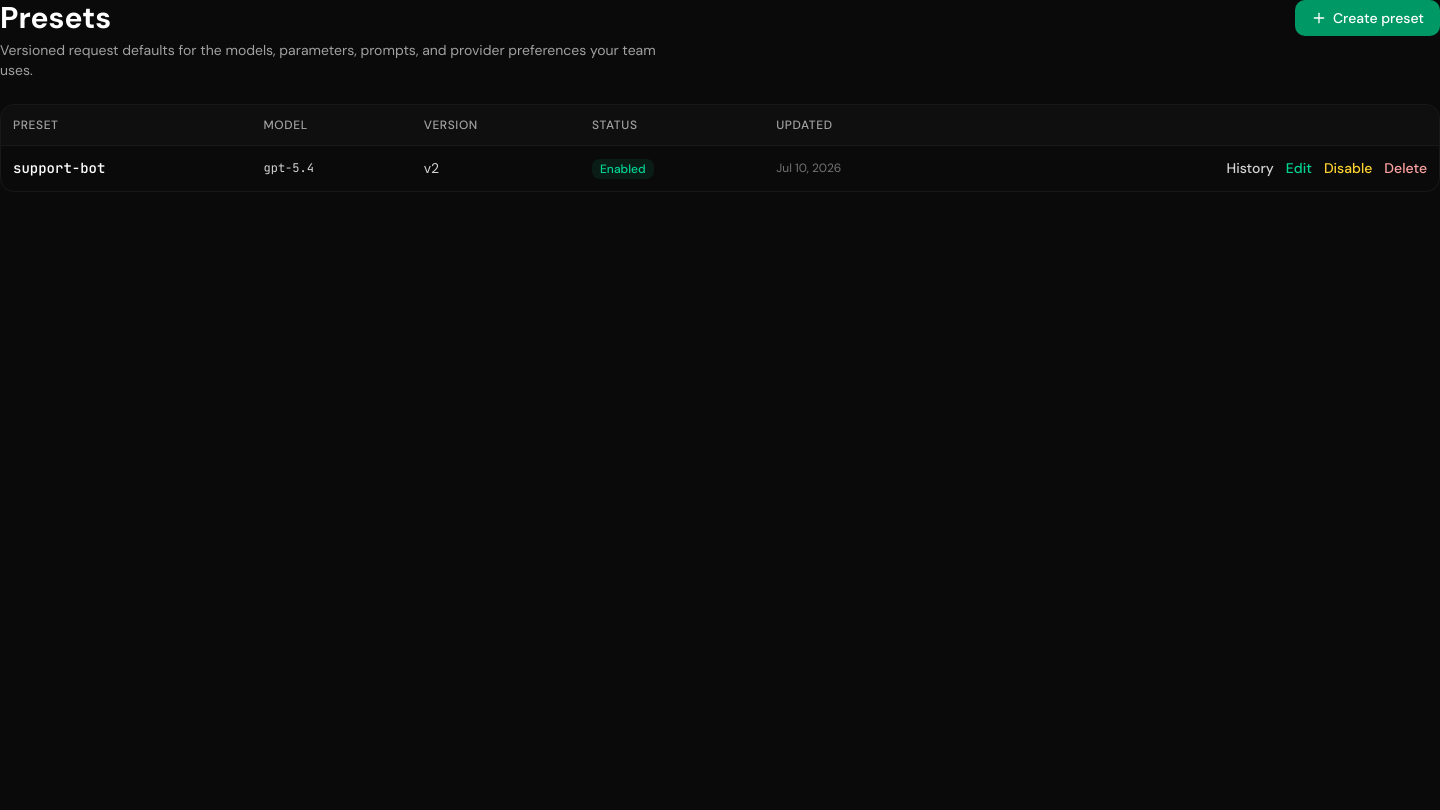
Test: PresetsManager › disables a preset through the explicit disable endpoint
The image size is (1440, 810).
Check: the text "support-bot" is shown, box [1, 145, 252, 190]
Click the button with aria-label "Disable support-bot" at point(1348, 168), box [1324, 158, 1372, 178]
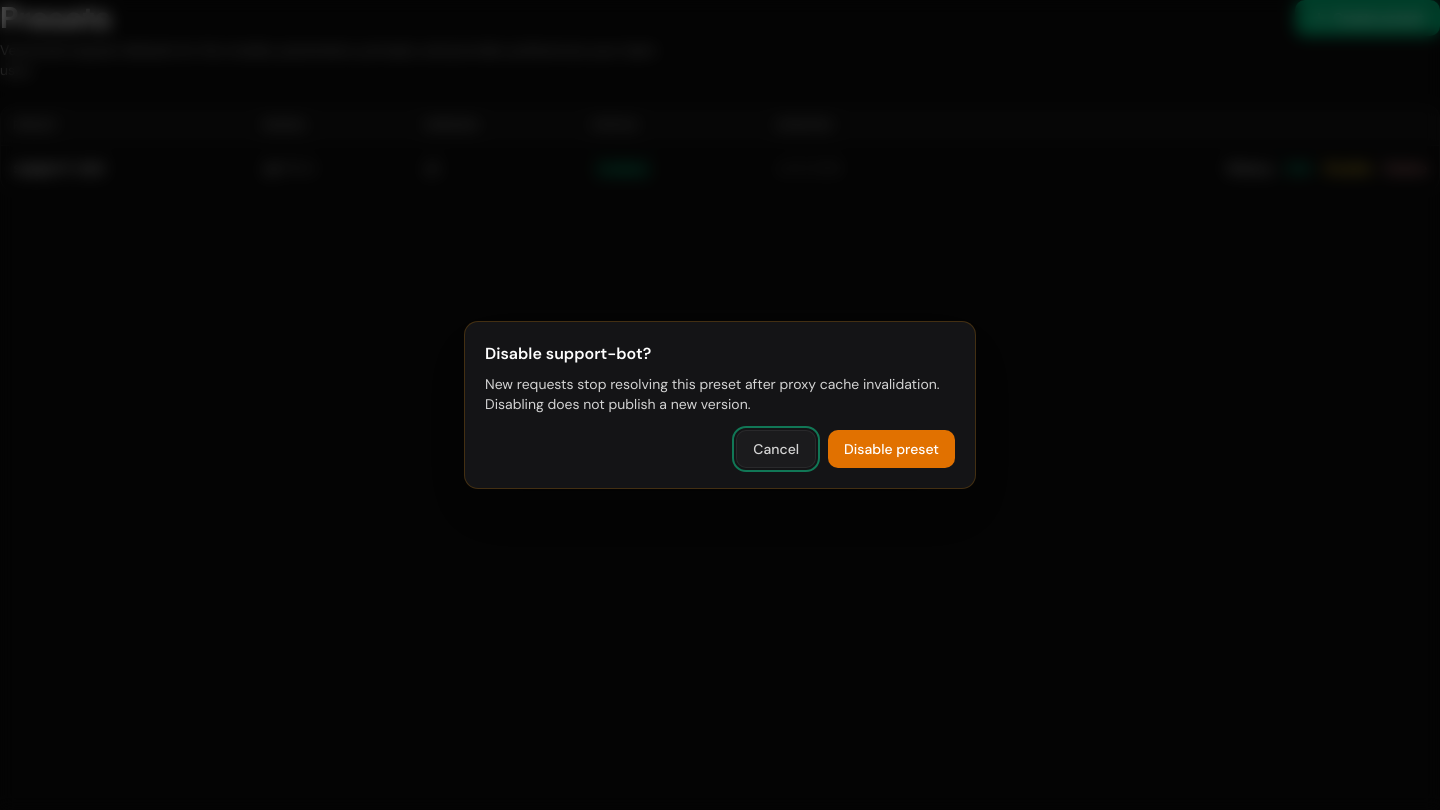
Click the button with aria-label "Confirm disable support-bot" at point(892, 449), box [828, 430, 955, 468]
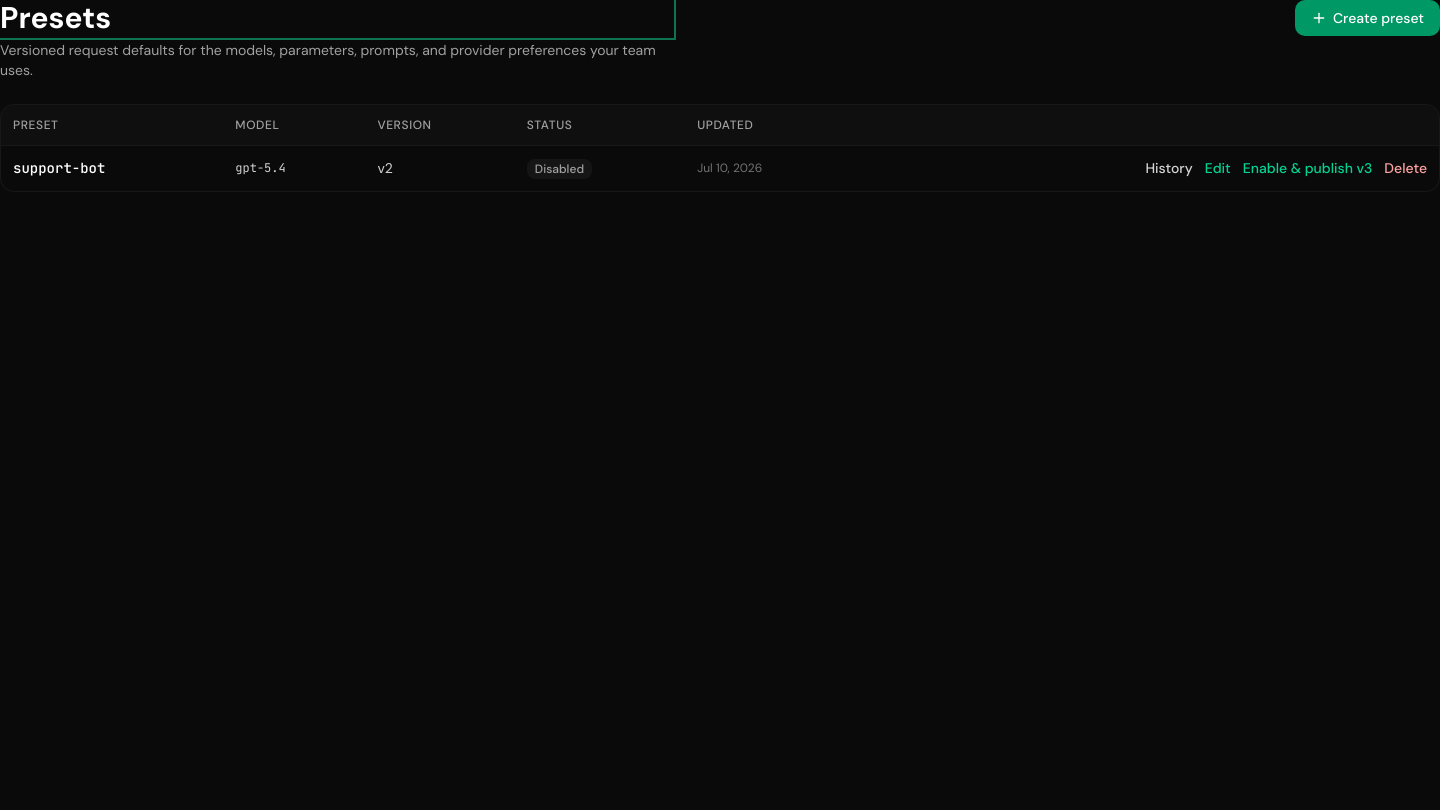
Check: the text "Disabled" is shown, box [527, 158, 592, 178]
